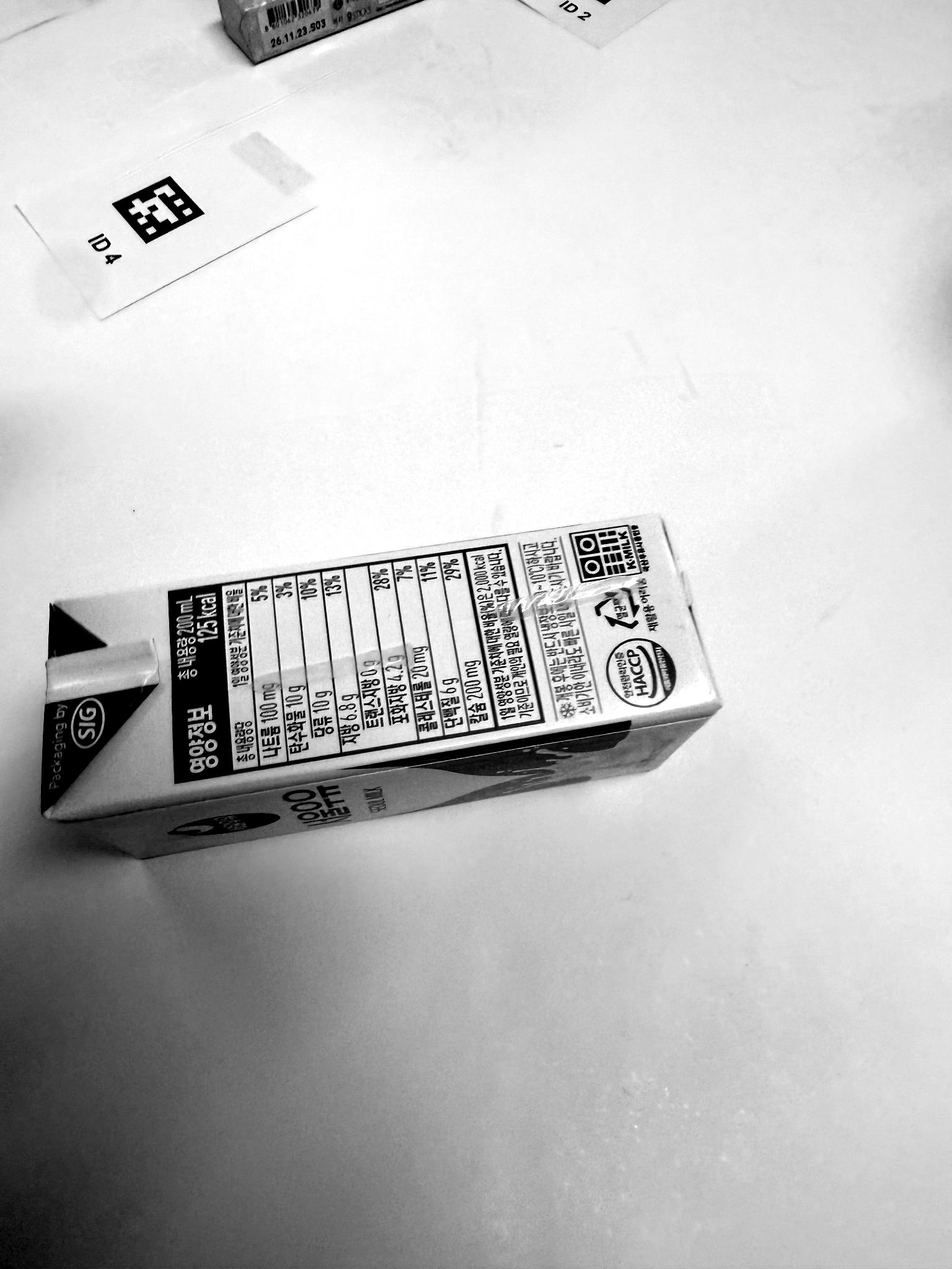milk_green: (38, 508, 722, 860)
